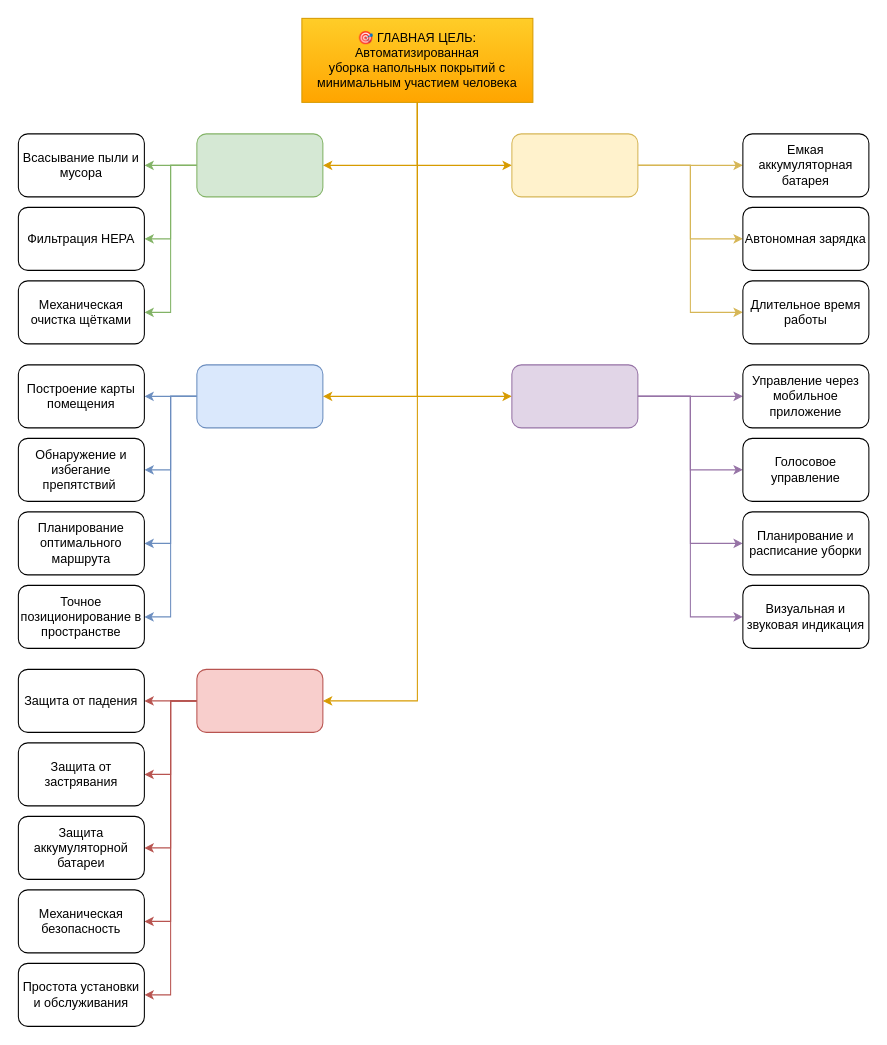
The diagram is 887 pixels wide and 1045 high, and some of its shapes have lost their labels. Each missing label, with the centre of its shape:
Автономность: (x=574, y=165)
Взаимодействие с пользователем: (x=574, y=396)
Защита устройства и окружения: (x=259, y=700)
Навигация и перемещение: (x=259, y=396)
Уборка пола: (x=259, y=165)
